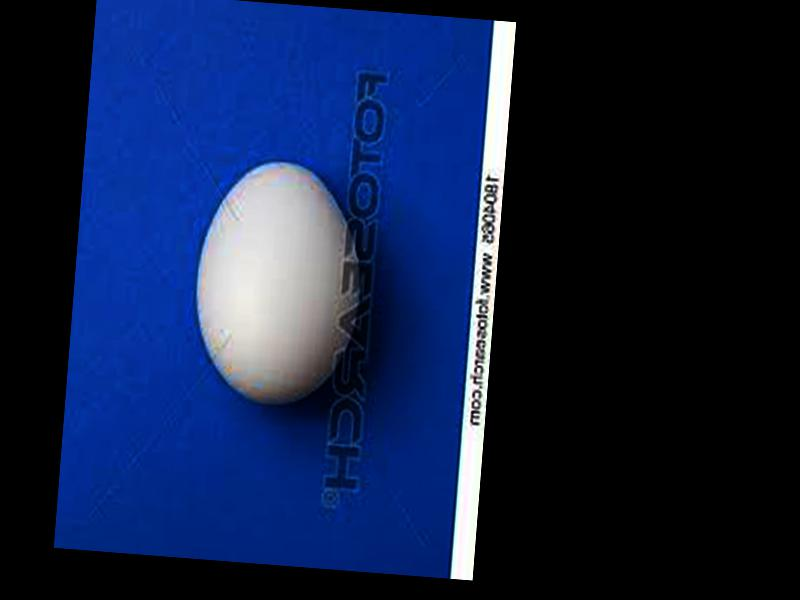Eggs: (188, 156, 374, 411)
